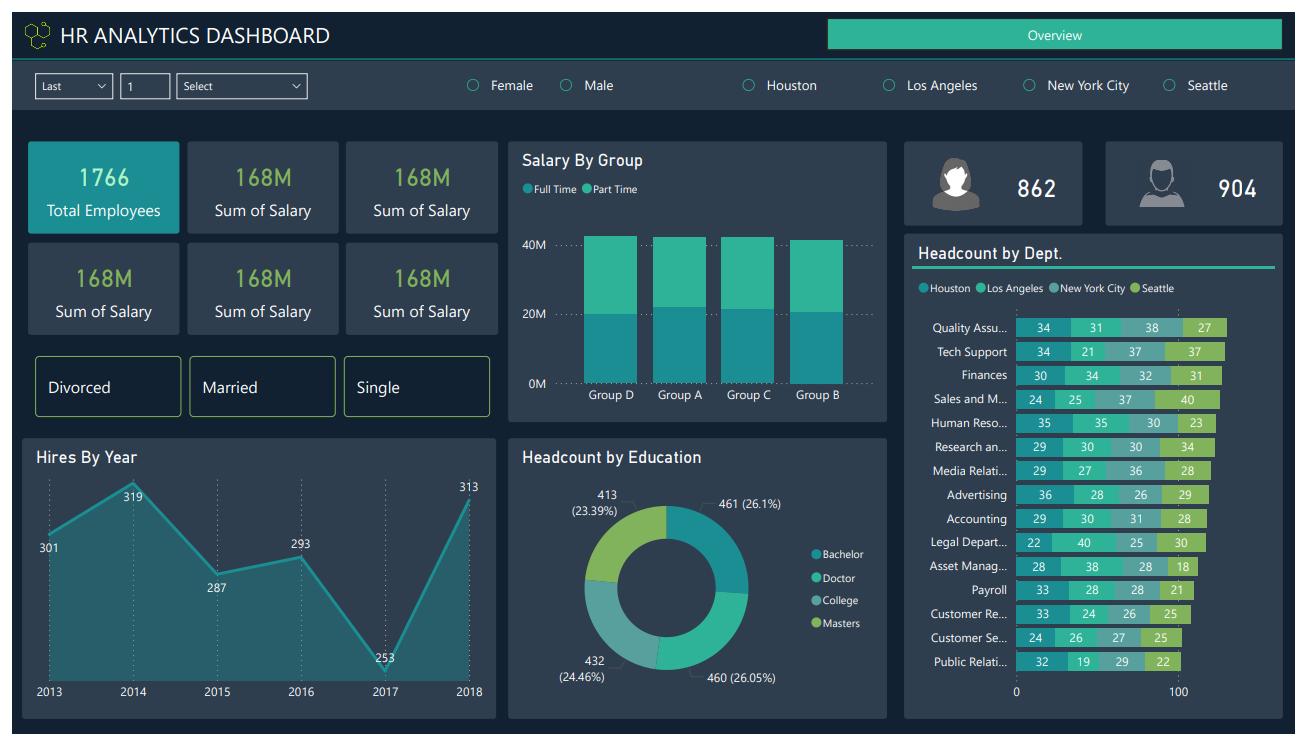

This screenshot's page, from the dashboard's own definition file:
{"tool":"powerbi","page":{"name":"Overview","canvas":[1280,720],"ordinal":0},"visuals":[{"type":"columnChart","title":"Salary By Group","fields":{"Category":["Human Resources.Groups"],"Series":["Human Resources.Job Type"],"Y":["Sum(Human Resources.Salary)"]},"box":[495.2,129.3,377.4,280],"z":0},{"type":"areaChart","title":"Hires By Year","fields":{"Category":["Human Resources.Hire Date.Variation.Date Hierarchy.Year","Human Resources.Hire Date.Variation.Date Hierarchy.Quarter","Human Resources.Hire Date.Variation.Date Hierarchy.Month"],"Y":["CountNonNull(Human Resources.Last Name)"]},"box":[9.7,425.3,473.1,280],"z":1000},{"type":"donutChart","title":"Headcount by Education","fields":{"Category":["Human Resources.Education"],"Y":["CountNonNull(Human Resources.Last Name)"]},"box":[495.2,425.3,377.4,280],"z":2000},{"type":"barChart","title":"Headcount by Dept.","fields":{"Category":["Human Resources.Departmets"],"Series":["Human Resources.Business Unit"],"Y":["CountNonNull(Human Resources.Last Name)"]},"box":[890.4,221.5,377.4,483.7],"z":3000},{"type":"textbox","box":[43.4,2.7,377.4,39],"z":4000},{"type":"shape","box":[0,38.1,1280.2,17.7],"z":5000},{"type":"shape","box":[0,48.7,1280.2,47.8],"z":6000},{"type":"image","box":[0,3.5,50.5,38.1],"z":7000},{"type":"card","fields":{"Values":["CountNonNull(Human Resources.Last Name)"]},"box":[15.9,129.3,151.5,92.1],"z":8000},{"type":"card","fields":{"Values":["Sum(Human Resources.Salary)"]},"box":[174.5,129.3,151.5,92.1],"z":9000},{"type":"card","fields":{"Values":["Sum(Human Resources.Salary)"]},"box":[333.1,129.3,151.5,92.1],"z":10000},{"type":"card","fields":{"Values":["Sum(Human Resources.Salary)"]},"box":[15.9,230.3,151.5,92.1],"z":11000},{"type":"card","fields":{"Values":["Sum(Human Resources.Salary)"]},"box":[174.5,230.3,151.5,92.1],"z":12000},{"type":"card","fields":{"Values":["Sum(Human Resources.Salary)"]},"box":[333.1,230.3,151.5,92.1],"z":13000},{"type":"cardVisual","fields":{"Data":["CountNonNull(Human Resources.Last Name)"]},"box":[890.4,129.3,177.2,83.3],"z":14000},{"type":"cardVisual","fields":{"Data":["CountNonNull(Human Resources.Last Name)"]},"box":[1090.6,129.3,177.2,83.3],"z":15000},{"type":"advancedSlicerVisual","fields":{"Values":["Human Resources.Marital Status"]},"box":[17.7,338.4,465.1,70.9],"z":16000},{"type":"advancedSlicerVisual","fields":{"Values":["Human Resources.Business Unit"]},"box":[714.1,54,566.1,37.2],"z":17000},{"type":"slicer","fields":{"Values":["Human Resources.Hire Date"]},"box":[9.7,51.4,299.4,42.5],"z":18000},{"type":"advancedSlicerVisual","fields":{"Values":["Human Resources.Gender"]},"box":[439.4,54,189.6,37.2],"z":19000},{"type":"pageNavigator","box":[813.3,6.2,454.5,31.9],"z":20000}]}

Visuals, with their boxes in screenshot pixels (x1, y1, x2, y2), scaled from the page's 1280x720 canvas onto the 1303x742 screenshot:
"Salary By Group" columnChart: <box>504,133,888,422</box>
"Hires By Year" areaChart: <box>10,438,491,727</box>
"Headcount by Education" donutChart: <box>504,438,888,727</box>
"Headcount by Dept." barChart: <box>906,228,1291,727</box>
textbox: <box>44,3,428,43</box>
shape: <box>0,39,1302,58</box>
shape: <box>0,50,1302,99</box>
image: <box>0,4,51,43</box>
card - CountNonNull(Human Resources.Last Name): <box>16,133,170,228</box>
card - Sum(Human Resources.Salary): <box>178,133,332,228</box>
card - Sum(Human Resources.Salary): <box>339,133,493,228</box>
card - Sum(Human Resources.Salary): <box>16,237,170,332</box>
card - Sum(Human Resources.Salary): <box>178,237,332,332</box>
card - Sum(Human Resources.Salary): <box>339,237,493,332</box>
cardVisual - CountNonNull(Human Resources.Last Name): <box>906,133,1087,219</box>
cardVisual - CountNonNull(Human Resources.Last Name): <box>1110,133,1291,219</box>
advancedSlicerVisual - Human Resources.Marital Status: <box>18,349,491,422</box>
advancedSlicerVisual - Human Resources.Business Unit: <box>727,56,1302,94</box>
slicer - Human Resources.Hire Date: <box>10,53,315,97</box>
advancedSlicerVisual - Human Resources.Gender: <box>447,56,640,94</box>
pageNavigator: <box>828,6,1291,39</box>
